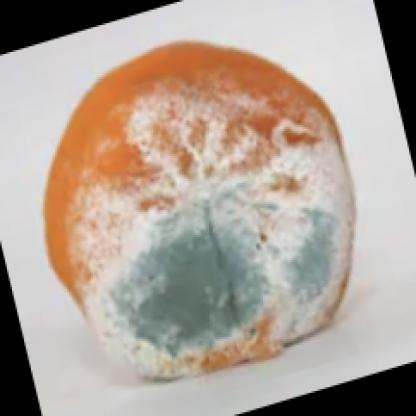rotten_orange: (37, 34, 357, 382)
